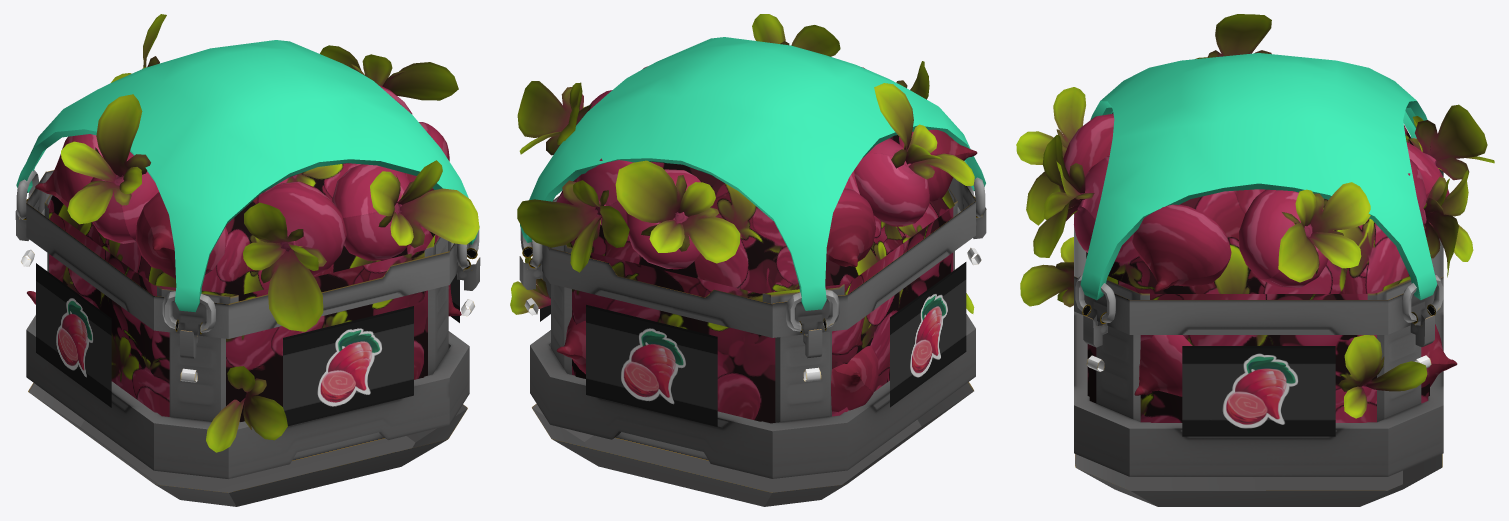
Rendered from obj_containers_redbeetcrate.fbx.
3 views of the same model, side by side, from view 1: azimuth 30°, elevation 25°; view 2: azimuth 150°, elevation 25°; view 3: azimuth 270°, elevation 25° (orthographic).
Visible parts, largest first — view 1: obj_containers_redbeetcrate; view 2: obj_containers_redbeetcrate; view 3: obj_containers_redbeetcrate.
Boxes of the visible parts, x1,y1,x2,y2 form: obj_containers_redbeetcrate: (15,14,480,506); obj_containers_redbeetcrate: (510,14,986,506); obj_containers_redbeetcrate: (1016,14,1494,506).
Bounding box in the file's own units: 9.26 × 7.87 × 9.06.
